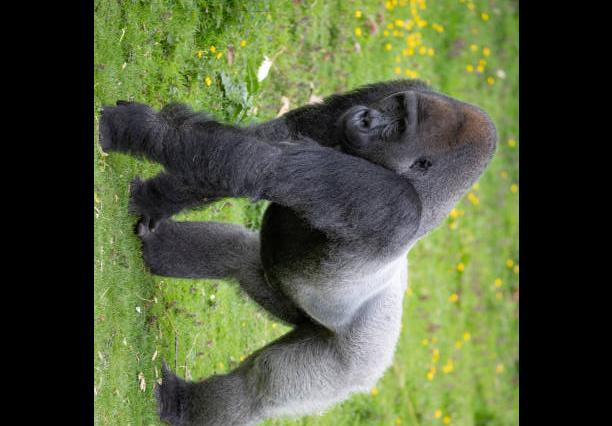gorille_Autres: (93, 55, 504, 426)
